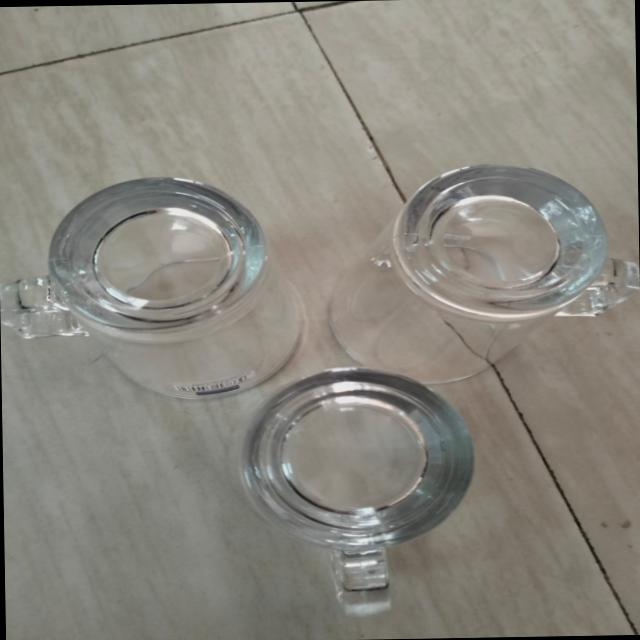glass-VX4N: (323, 140, 640, 377), (0, 174, 304, 406), (230, 362, 480, 616)
